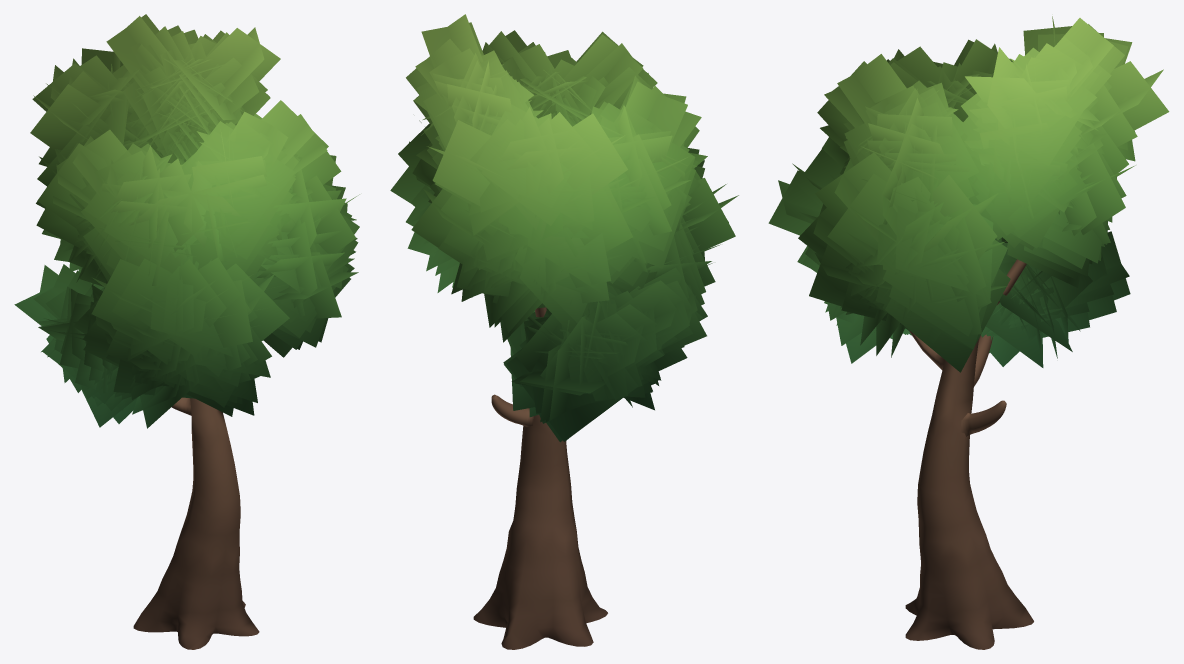
File: q_tree_round_a.glb
The picture shows the model from 3 angles, left to right: view 1: azimuth 30°, elevation 25°; view 2: azimuth 150°, elevation 25°; view 3: azimuth 270°, elevation 25°; orthographic projection. The views are drawn at different scales.
Parts seen in each view (by area): view 1: Leaves, Trunk; view 2: Leaves, Trunk; view 3: Leaves, Trunk.
Boxes of the visible parts, box(x1,y1,x2,y2) form: Leaves: box(14, 14, 359, 428); Trunk: box(133, 397, 259, 649); Leaves: box(390, 14, 738, 442); Trunk: box(473, 307, 607, 649); Leaves: box(768, 16, 1169, 372); Trunk: box(905, 259, 1033, 649).
Size of the model in its own units: 2.31 by 4.4 by 2.65.
